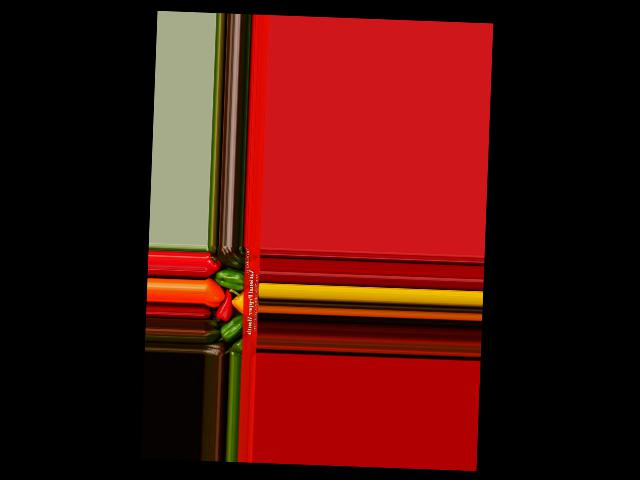bell_pepper: (216, 245, 245, 268)
